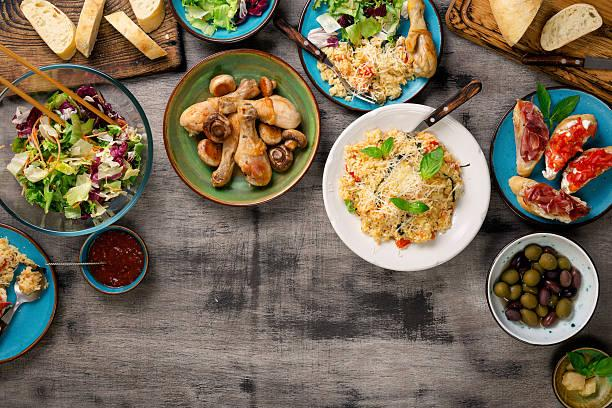Braised Crucian Carp: (321, 102, 486, 272), (2, 63, 151, 233), (161, 48, 314, 206), (488, 87, 608, 228), (301, 0, 439, 112), (485, 234, 598, 346)
